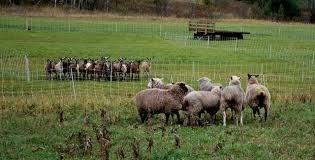sheep: (132, 87, 182, 123), (219, 76, 247, 130), (184, 87, 222, 123), (245, 74, 269, 125), (149, 77, 182, 97), (137, 56, 155, 79), (76, 59, 92, 84), (130, 59, 148, 81), (199, 75, 220, 92), (114, 59, 128, 80), (100, 56, 114, 76), (68, 58, 80, 80), (90, 59, 101, 81), (45, 58, 56, 78), (55, 58, 67, 76)
